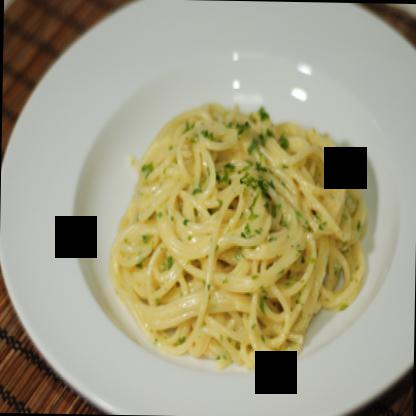pasta: (106, 93, 367, 369)
